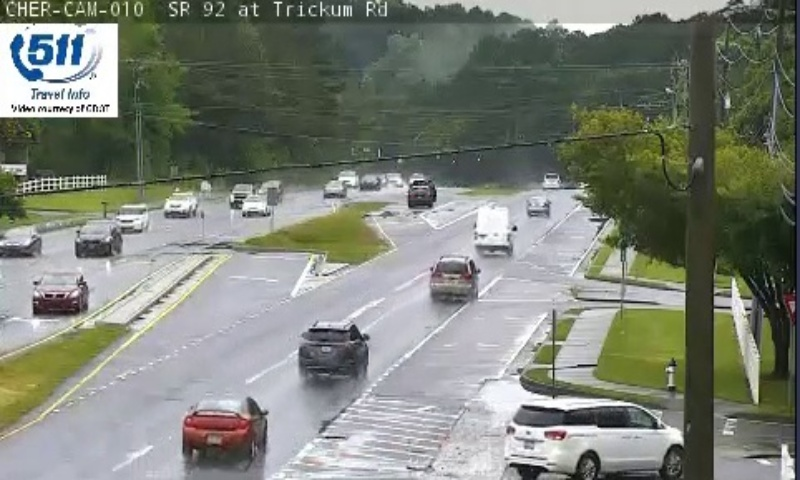car: (182, 396, 267, 451), (298, 323, 368, 373), (429, 256, 474, 295), (526, 194, 549, 218)
van: (474, 207, 511, 254)
